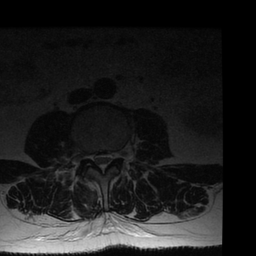CCS_normal: (99, 145, 106, 178)
LFS_normal: (113, 142, 121, 166)
LLS_normal: (106, 144, 114, 170)
RFS_stenosis: (83, 143, 91, 165)
RLS_normal: (91, 144, 99, 171)
